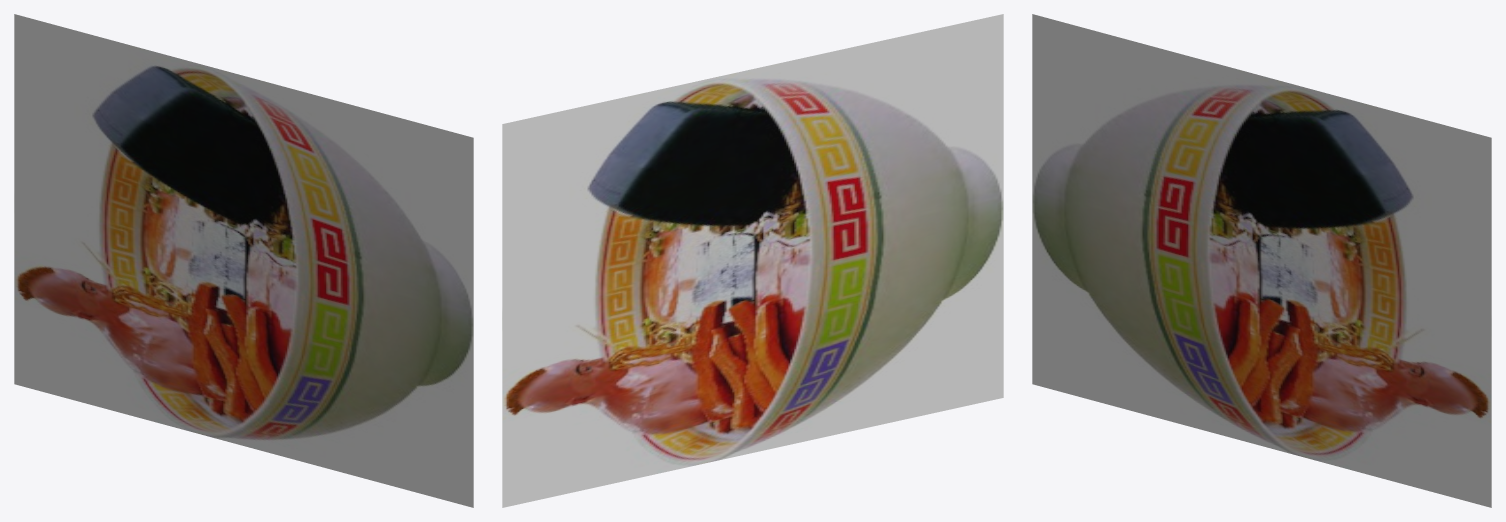
3 views of the same model, side by side, from view 1: azimuth 90°, elevation 25°; view 2: azimuth 150°, elevation 25°; view 3: azimuth 270°, elevation 25° (orthographic). The views are drawn at different scales.
Visible parts, largest first — view 1: Plane.012; view 2: Plane.012; view 3: Plane.012.
Boxes of the visible parts, left/top/right/bottom form: Plane.012: left=14, top=14, right=473, bottom=507; Plane.012: left=502, top=14, right=1003, bottom=507; Plane.012: left=1032, top=14, right=1491, bottom=507.
Size of the model in its own units: 2.15 by 3 by 3.37.
Materials: 1 (1 with a texture image).
